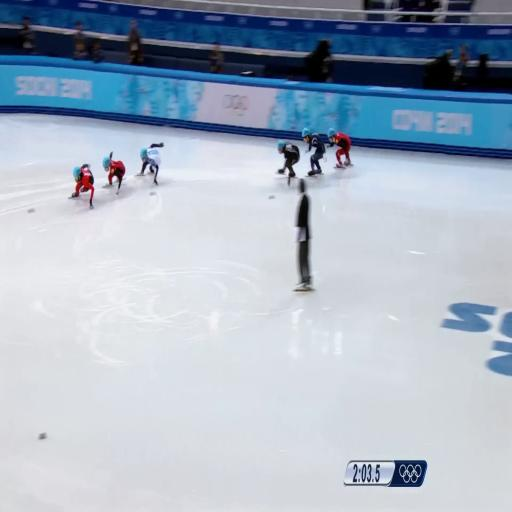Skater: (302, 128, 325, 176), (71, 164, 94, 209), (138, 143, 163, 184), (278, 141, 299, 185), (328, 128, 351, 168), (103, 153, 125, 194)
